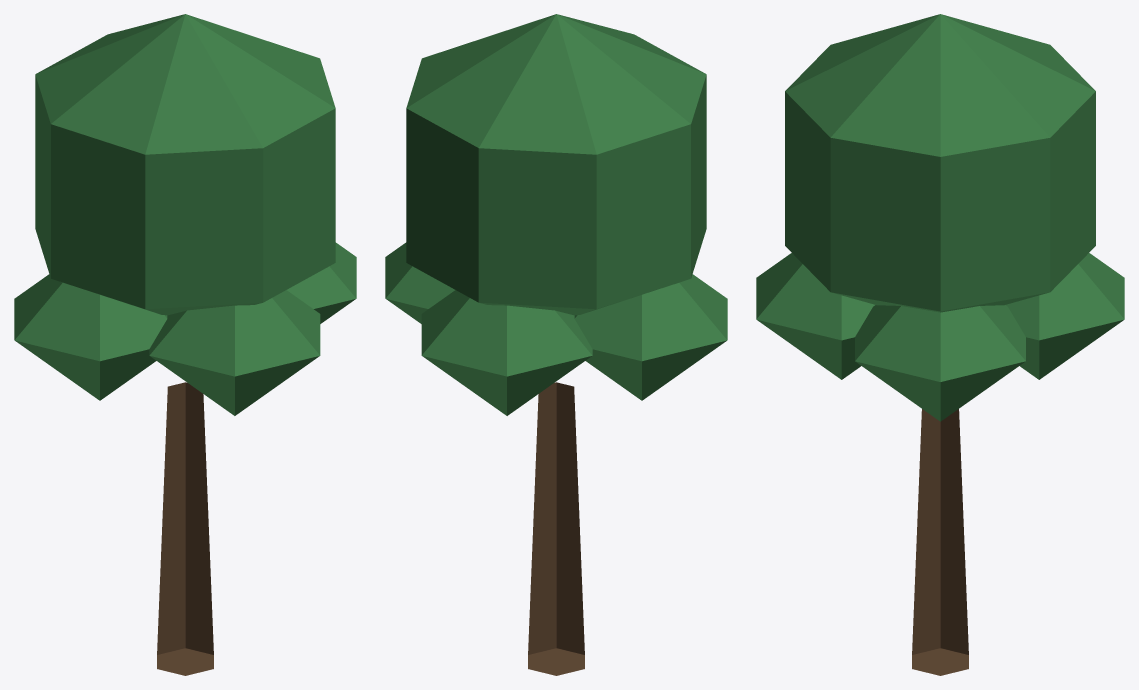
Rendered from resource_hardwood.glb.
The picture shows the model from 3 angles, left to right: view 1: azimuth 30°, elevation 25°; view 2: azimuth 150°, elevation 25°; view 3: azimuth 270°, elevation 25°; orthographic projection.
Parts seen in each view (by area): view 1: resource_hardwood; view 2: resource_hardwood; view 3: resource_hardwood.
Part boxes in pixels (x1=…): resource_hardwood: x1=14, y1=14, x2=356, y2=675; resource_hardwood: x1=385, y1=14, x2=727, y2=675; resource_hardwood: x1=756, y1=14, x2=1124, y2=675.
Bounding box in the file's own units: 0.5523 × 1 × 0.5153.
